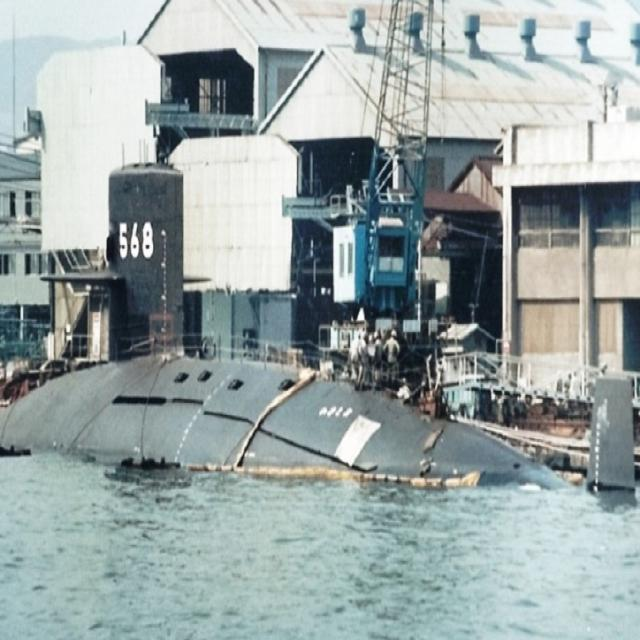submarine: (1, 162, 639, 492)
